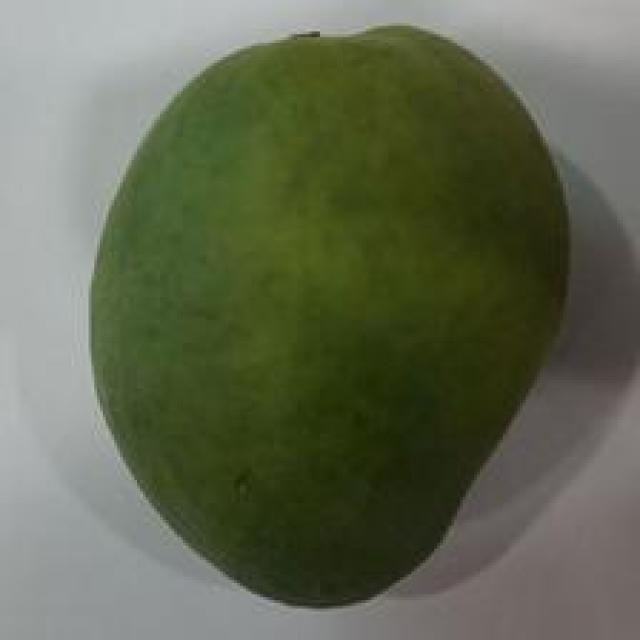Good_Mango: (89, 26, 571, 611)
